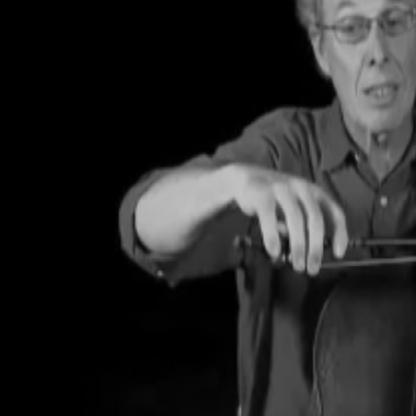good: (237, 161, 354, 286)
